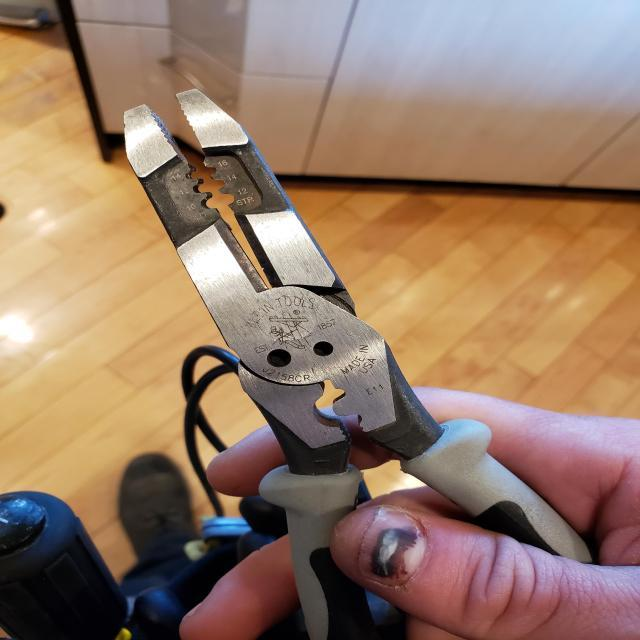pliers: (117, 78, 600, 640)
